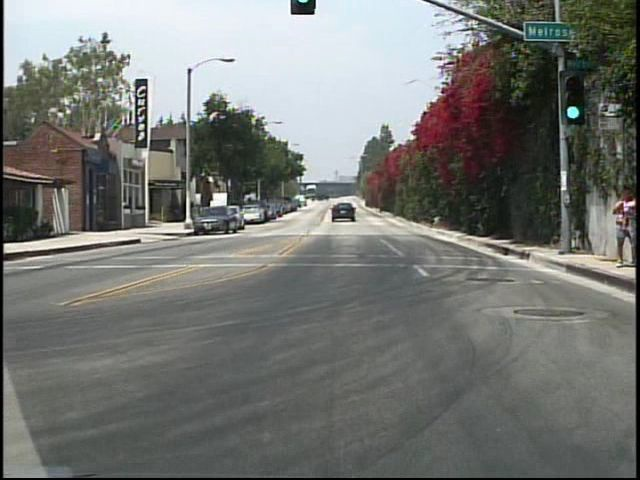person: (611, 185, 637, 268)
